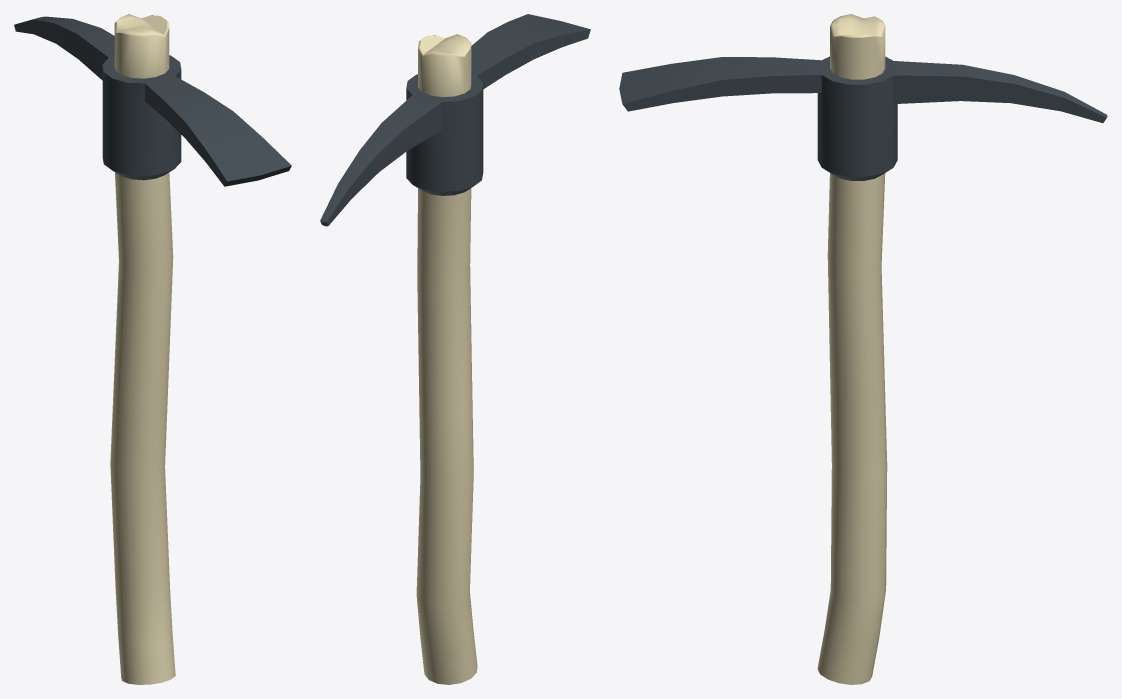
File: Pickaxe.fbx
The picture shows the model from 3 angles, left to right: view 1: azimuth 30°, elevation 25°; view 2: azimuth 150°, elevation 25°; view 3: azimuth 270°, elevation 25°; orthographic projection. The views are drawn at different scales.
Visible parts, largest first — view 1: Pickaxe; view 2: Pickaxe; view 3: Pickaxe.
Boxes of the visible parts, left/top/right/bottom form: Pickaxe: left=14, top=14, right=291, bottom=684; Pickaxe: left=320, top=14, right=590, bottom=684; Pickaxe: left=619, top=14, right=1107, bottom=684.
Bounding box in the file's own units: 6.91 × 43.39 × 63.93.
